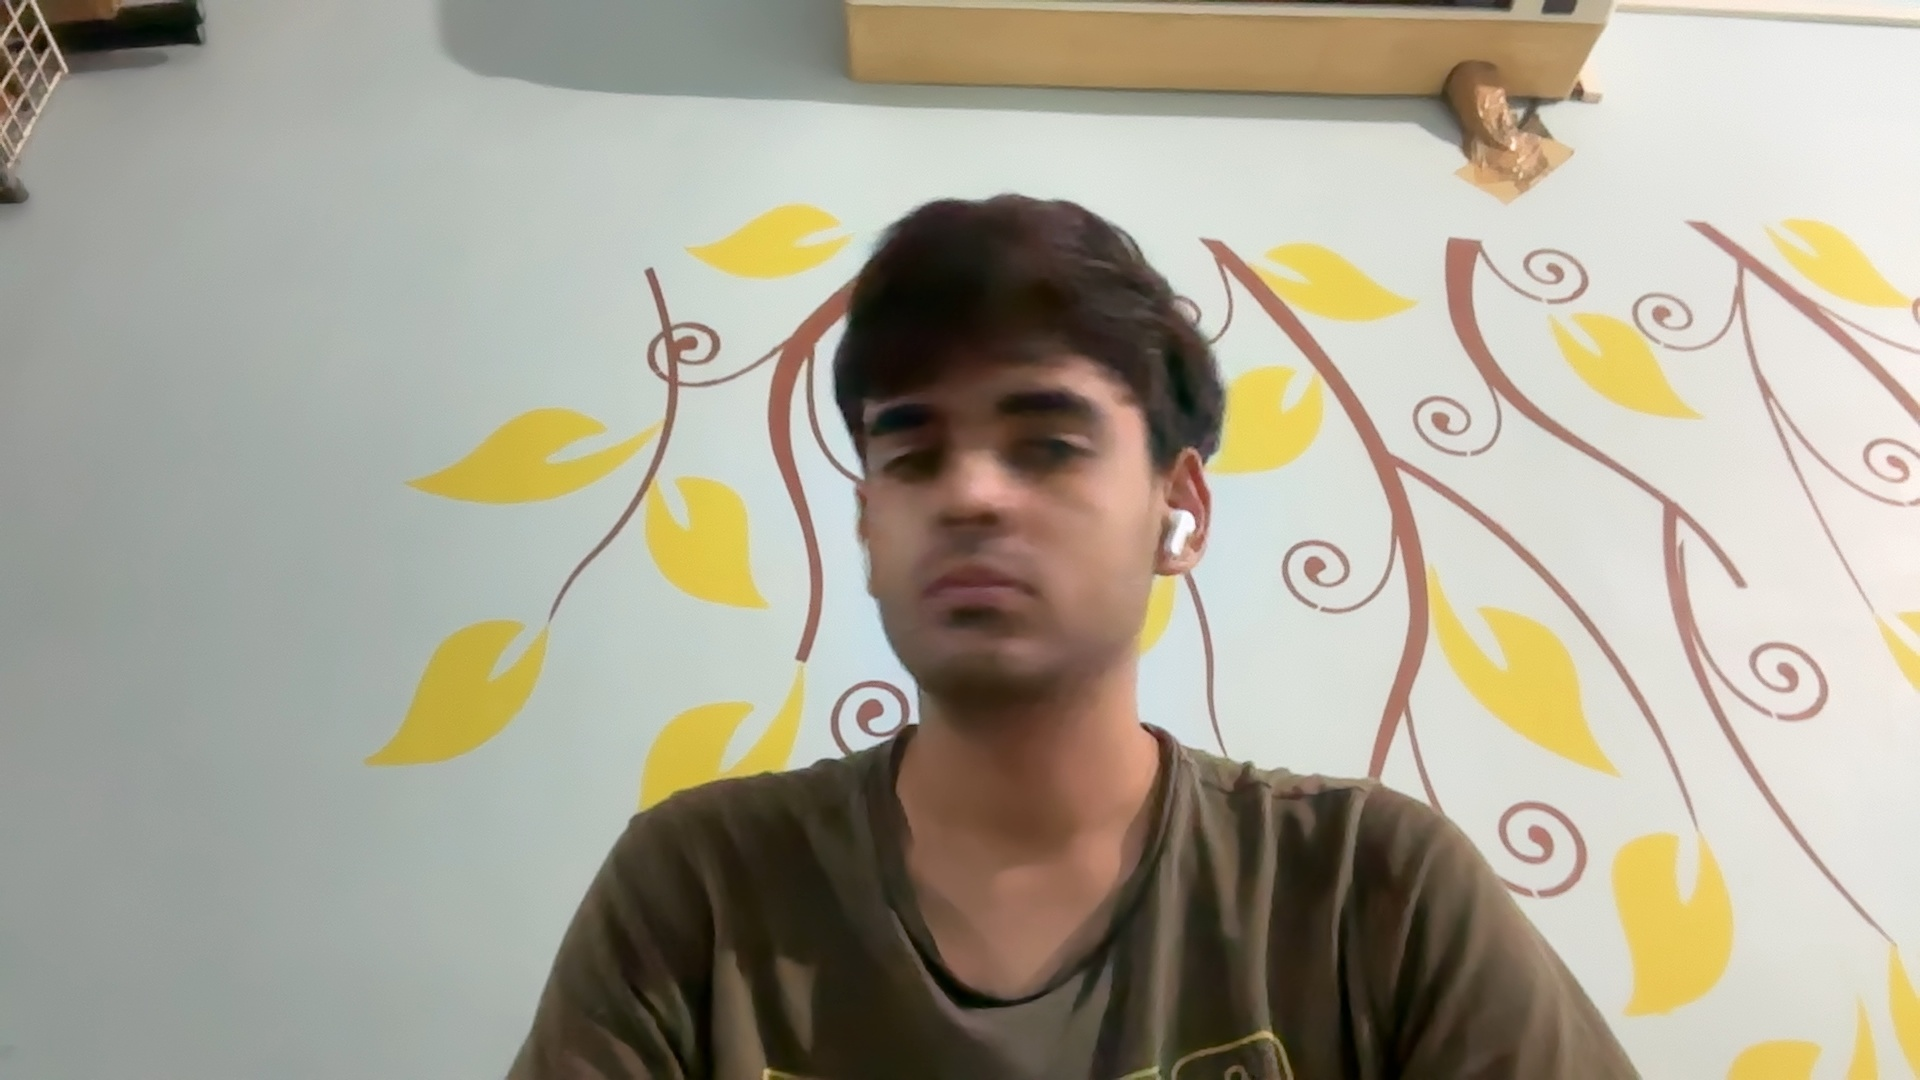No Mask: (853, 481, 1153, 681)
